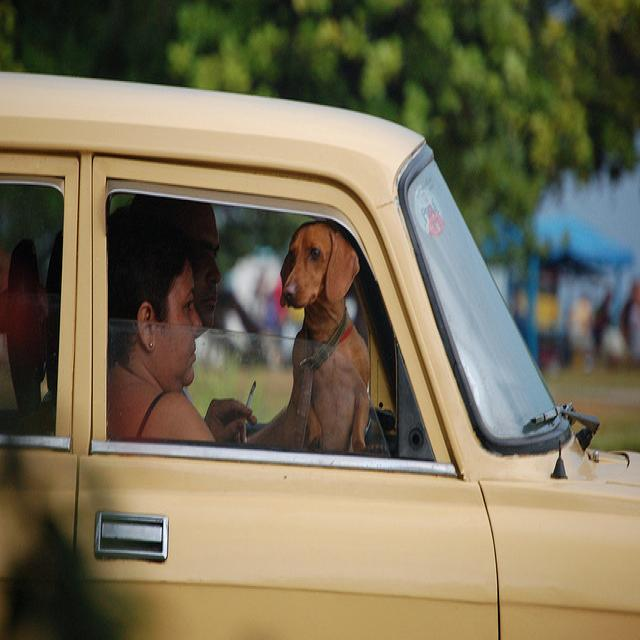Vehicle: (1, 66, 638, 630)
